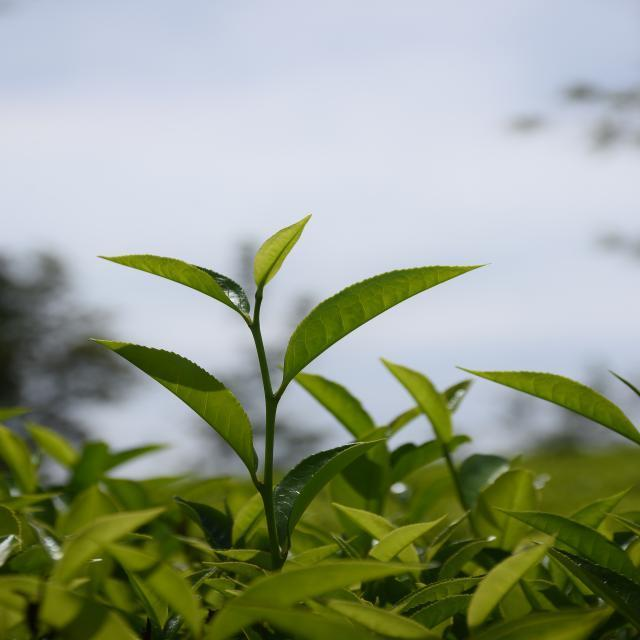Stem: (249, 324, 262, 340)
